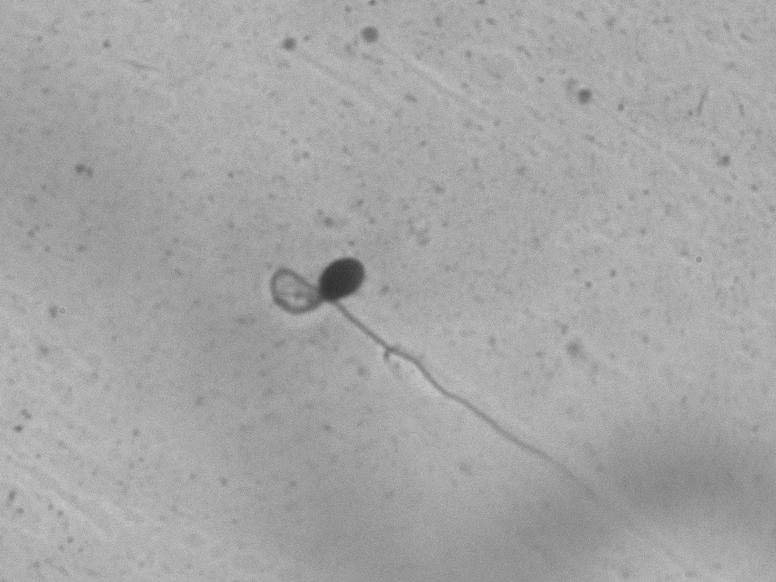Abnormal: (220, 213, 659, 510)
